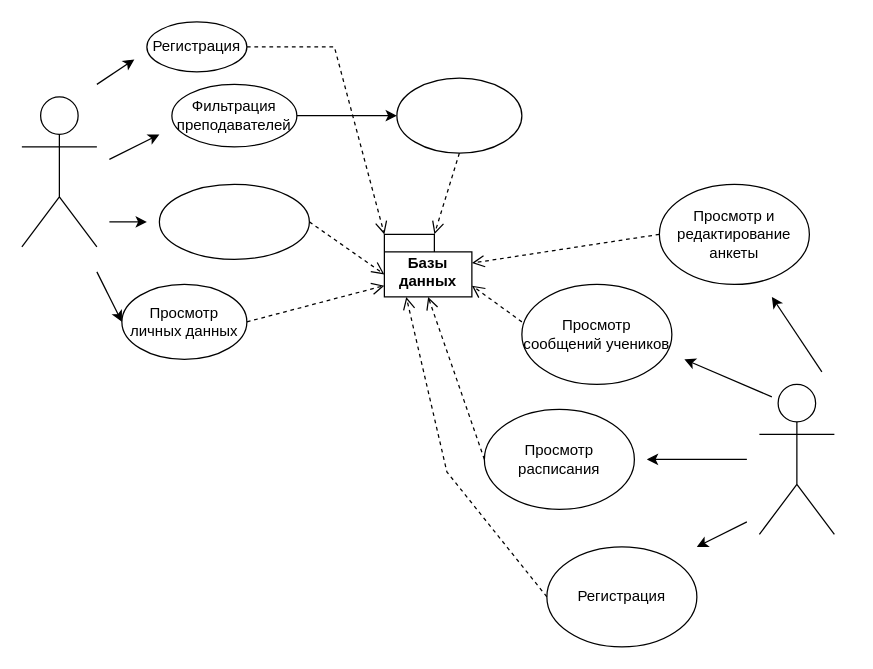
This 873x669 diagram has some shape labels left out. The box of each missing label's shape, as (x1, y1, x2, y2) in pixels:
Запись к преподавателю: (396, 77, 522, 153)
Отправление сообщений преподавателям: (158, 183, 309, 259)
Преподаватель: (758, 383, 834, 534)
Ученик: (21, 96, 97, 247)
